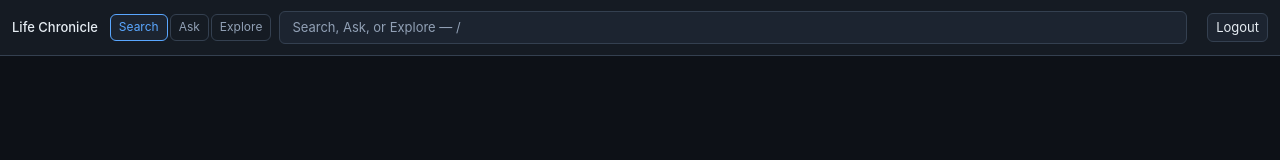
CommandBar › Escape closes autocomplete
Type "ali" into the dropdown with test id "command-bar-input" at (733, 28), box [279,11,1187,44]
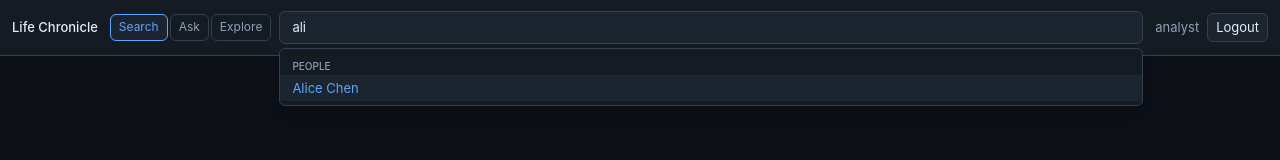
Expected: the list with test id "command-bar-suggest" is shown, [279,48,1143,106]
Press Escape in the dropdown with test id "command-bar-input", box [279,11,1143,44]
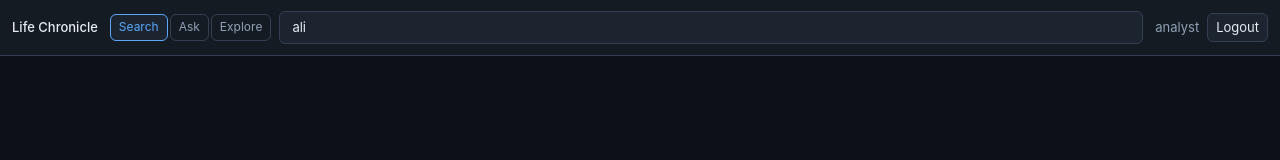
Expected: the list with test id "command-bar-suggest" is gone
